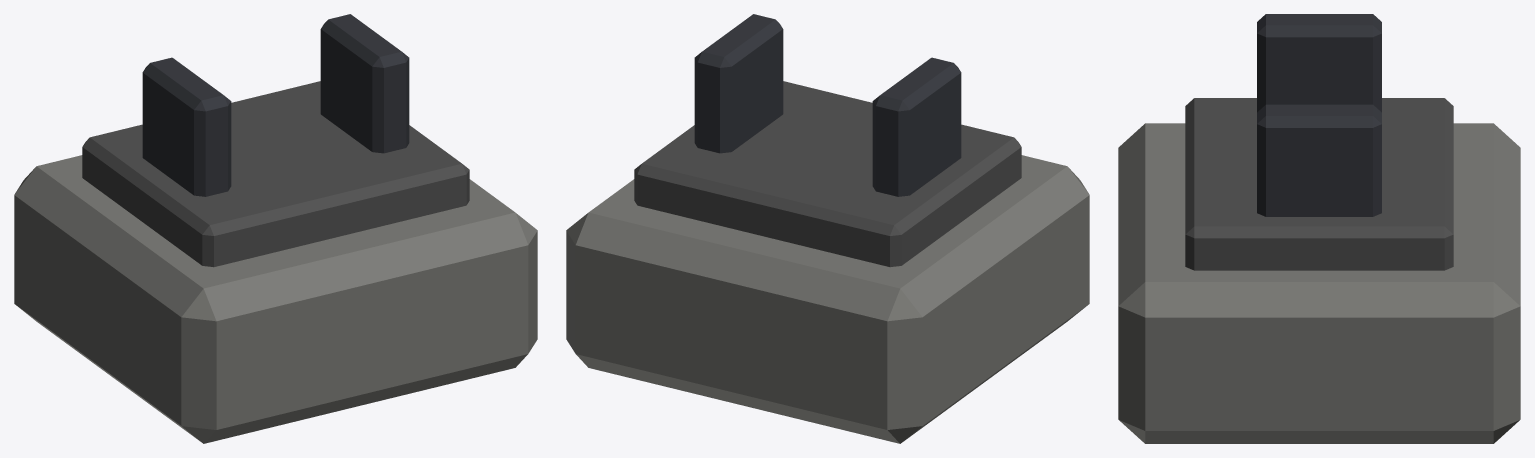
The model's file is lever_base.fbx.
The picture shows the model from 3 angles, left to right: view 1: azimuth 30°, elevation 25°; view 2: azimuth 150°, elevation 25°; view 3: azimuth 270°, elevation 25°; orthographic projection. The views are drawn at different scales.
Parts seen in each view (by area): view 1: Base; view 2: Base; view 3: Base.
Part boxes in pixels (<box>): Base: <box>14,14,537,443</box>; Base: <box>566,14,1089,443</box>; Base: <box>1118,14,1520,443</box>.
Bounding box in the file's own units: 0.48 × 0.37 × 0.45.
Materials: 1 (1 with a texture image).
